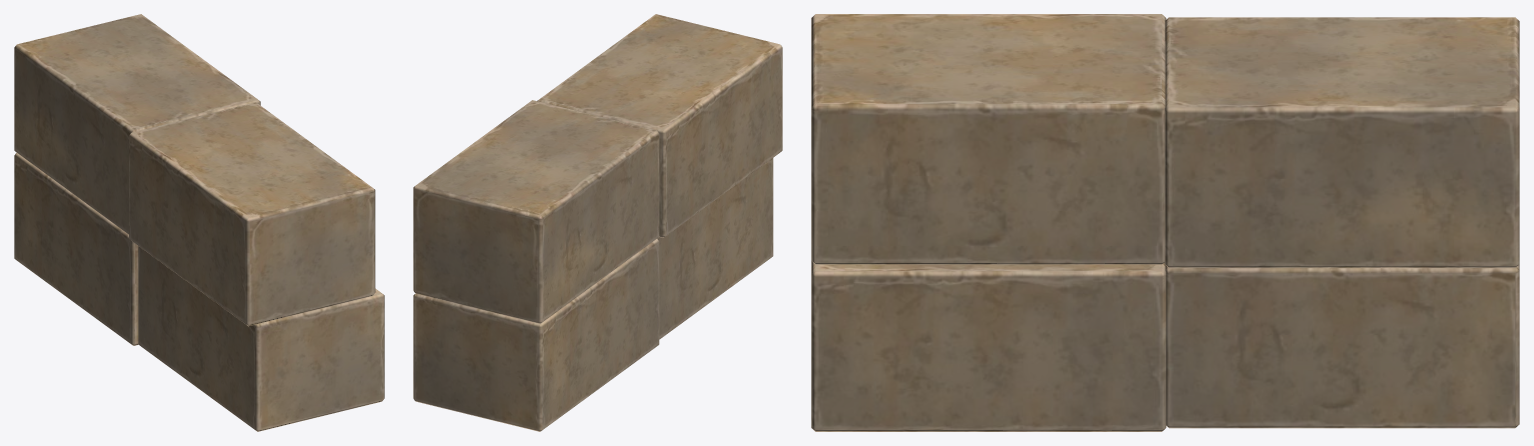
File: SM_construction_block_02.glb
3 views of the same model, side by side, from view 1: azimuth 30°, elevation 25°; view 2: azimuth 150°, elevation 25°; view 3: azimuth 270°, elevation 25° (orthographic). The views are drawn at different scales.
Parts seen in each view (by area): view 1: SM_construction_block_02; view 2: SM_construction_block_02; view 3: SM_construction_block_02.
Boxes of the visible parts, x1,y1,x2,y2 form: SM_construction_block_02: (14, 14, 384, 431); SM_construction_block_02: (413, 14, 782, 431); SM_construction_block_02: (811, 14, 1519, 431).
Bounding box in the file's own units: 1.61 × 2.39 × 4.79.
Materials: 1 (1 with a texture image).
